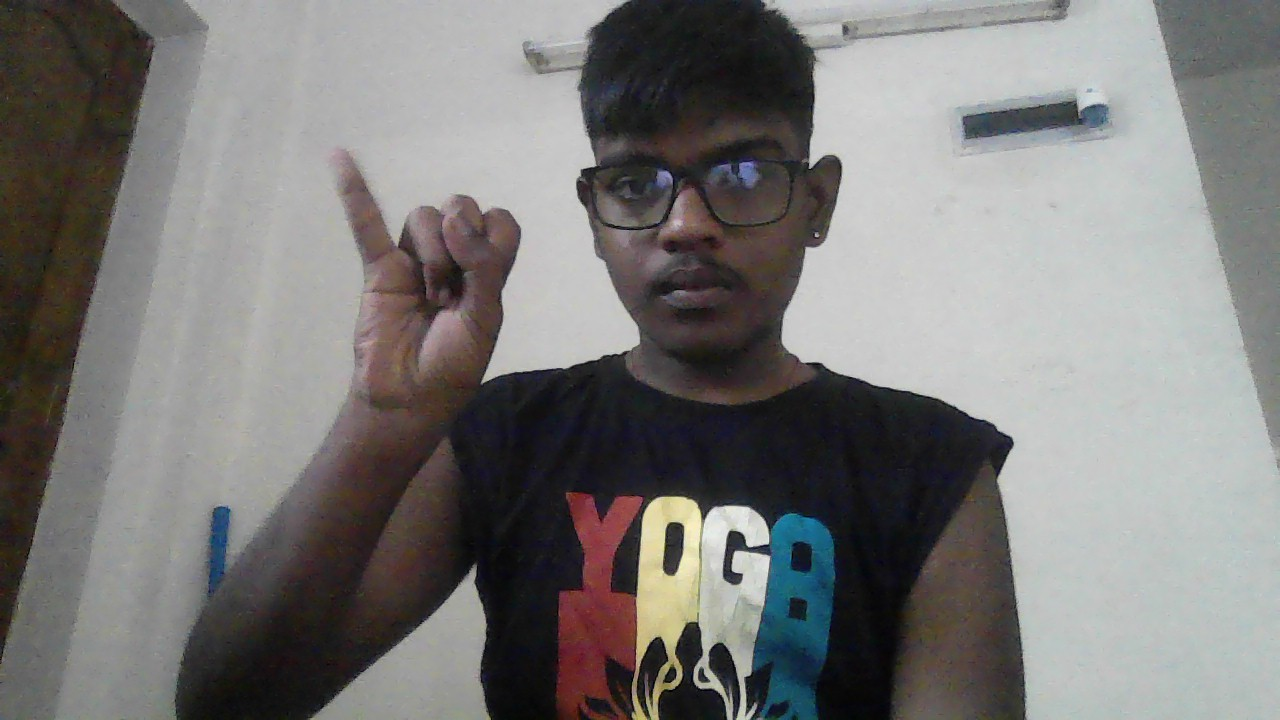I: (320, 142, 520, 409)
